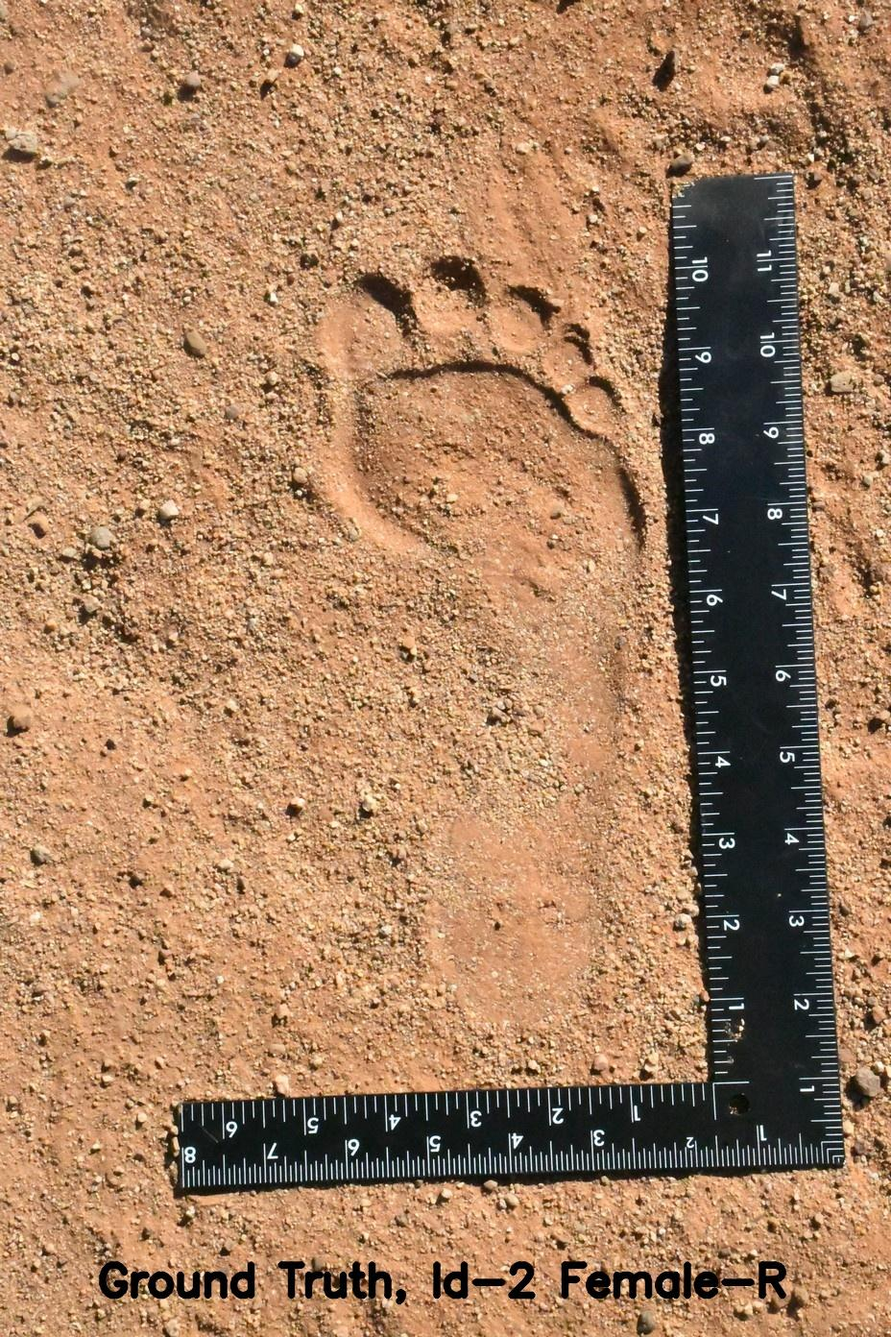human_footprint: (308, 215, 682, 1050)
